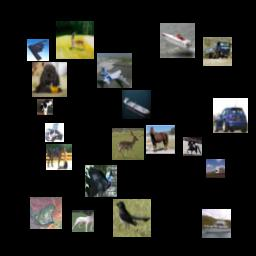airplane: (97, 53, 132, 88), (27, 39, 49, 61)
automobile: (213, 98, 248, 133)
bird: (113, 199, 151, 237), (85, 165, 117, 197)
cat: (37, 99, 53, 115)
deer: (56, 21, 94, 59), (112, 128, 144, 160)
dog: (32, 62, 67, 97), (72, 210, 94, 232)
frog: (30, 197, 62, 229)
ship: (160, 23, 195, 58), (202, 209, 231, 238), (122, 90, 151, 119)
truck: (203, 37, 232, 66), (45, 123, 64, 142), (206, 159, 225, 178)
